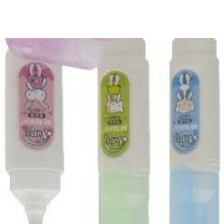correction_fluid: (2, 40, 67, 224), (94, 33, 150, 224), (166, 31, 221, 224)
